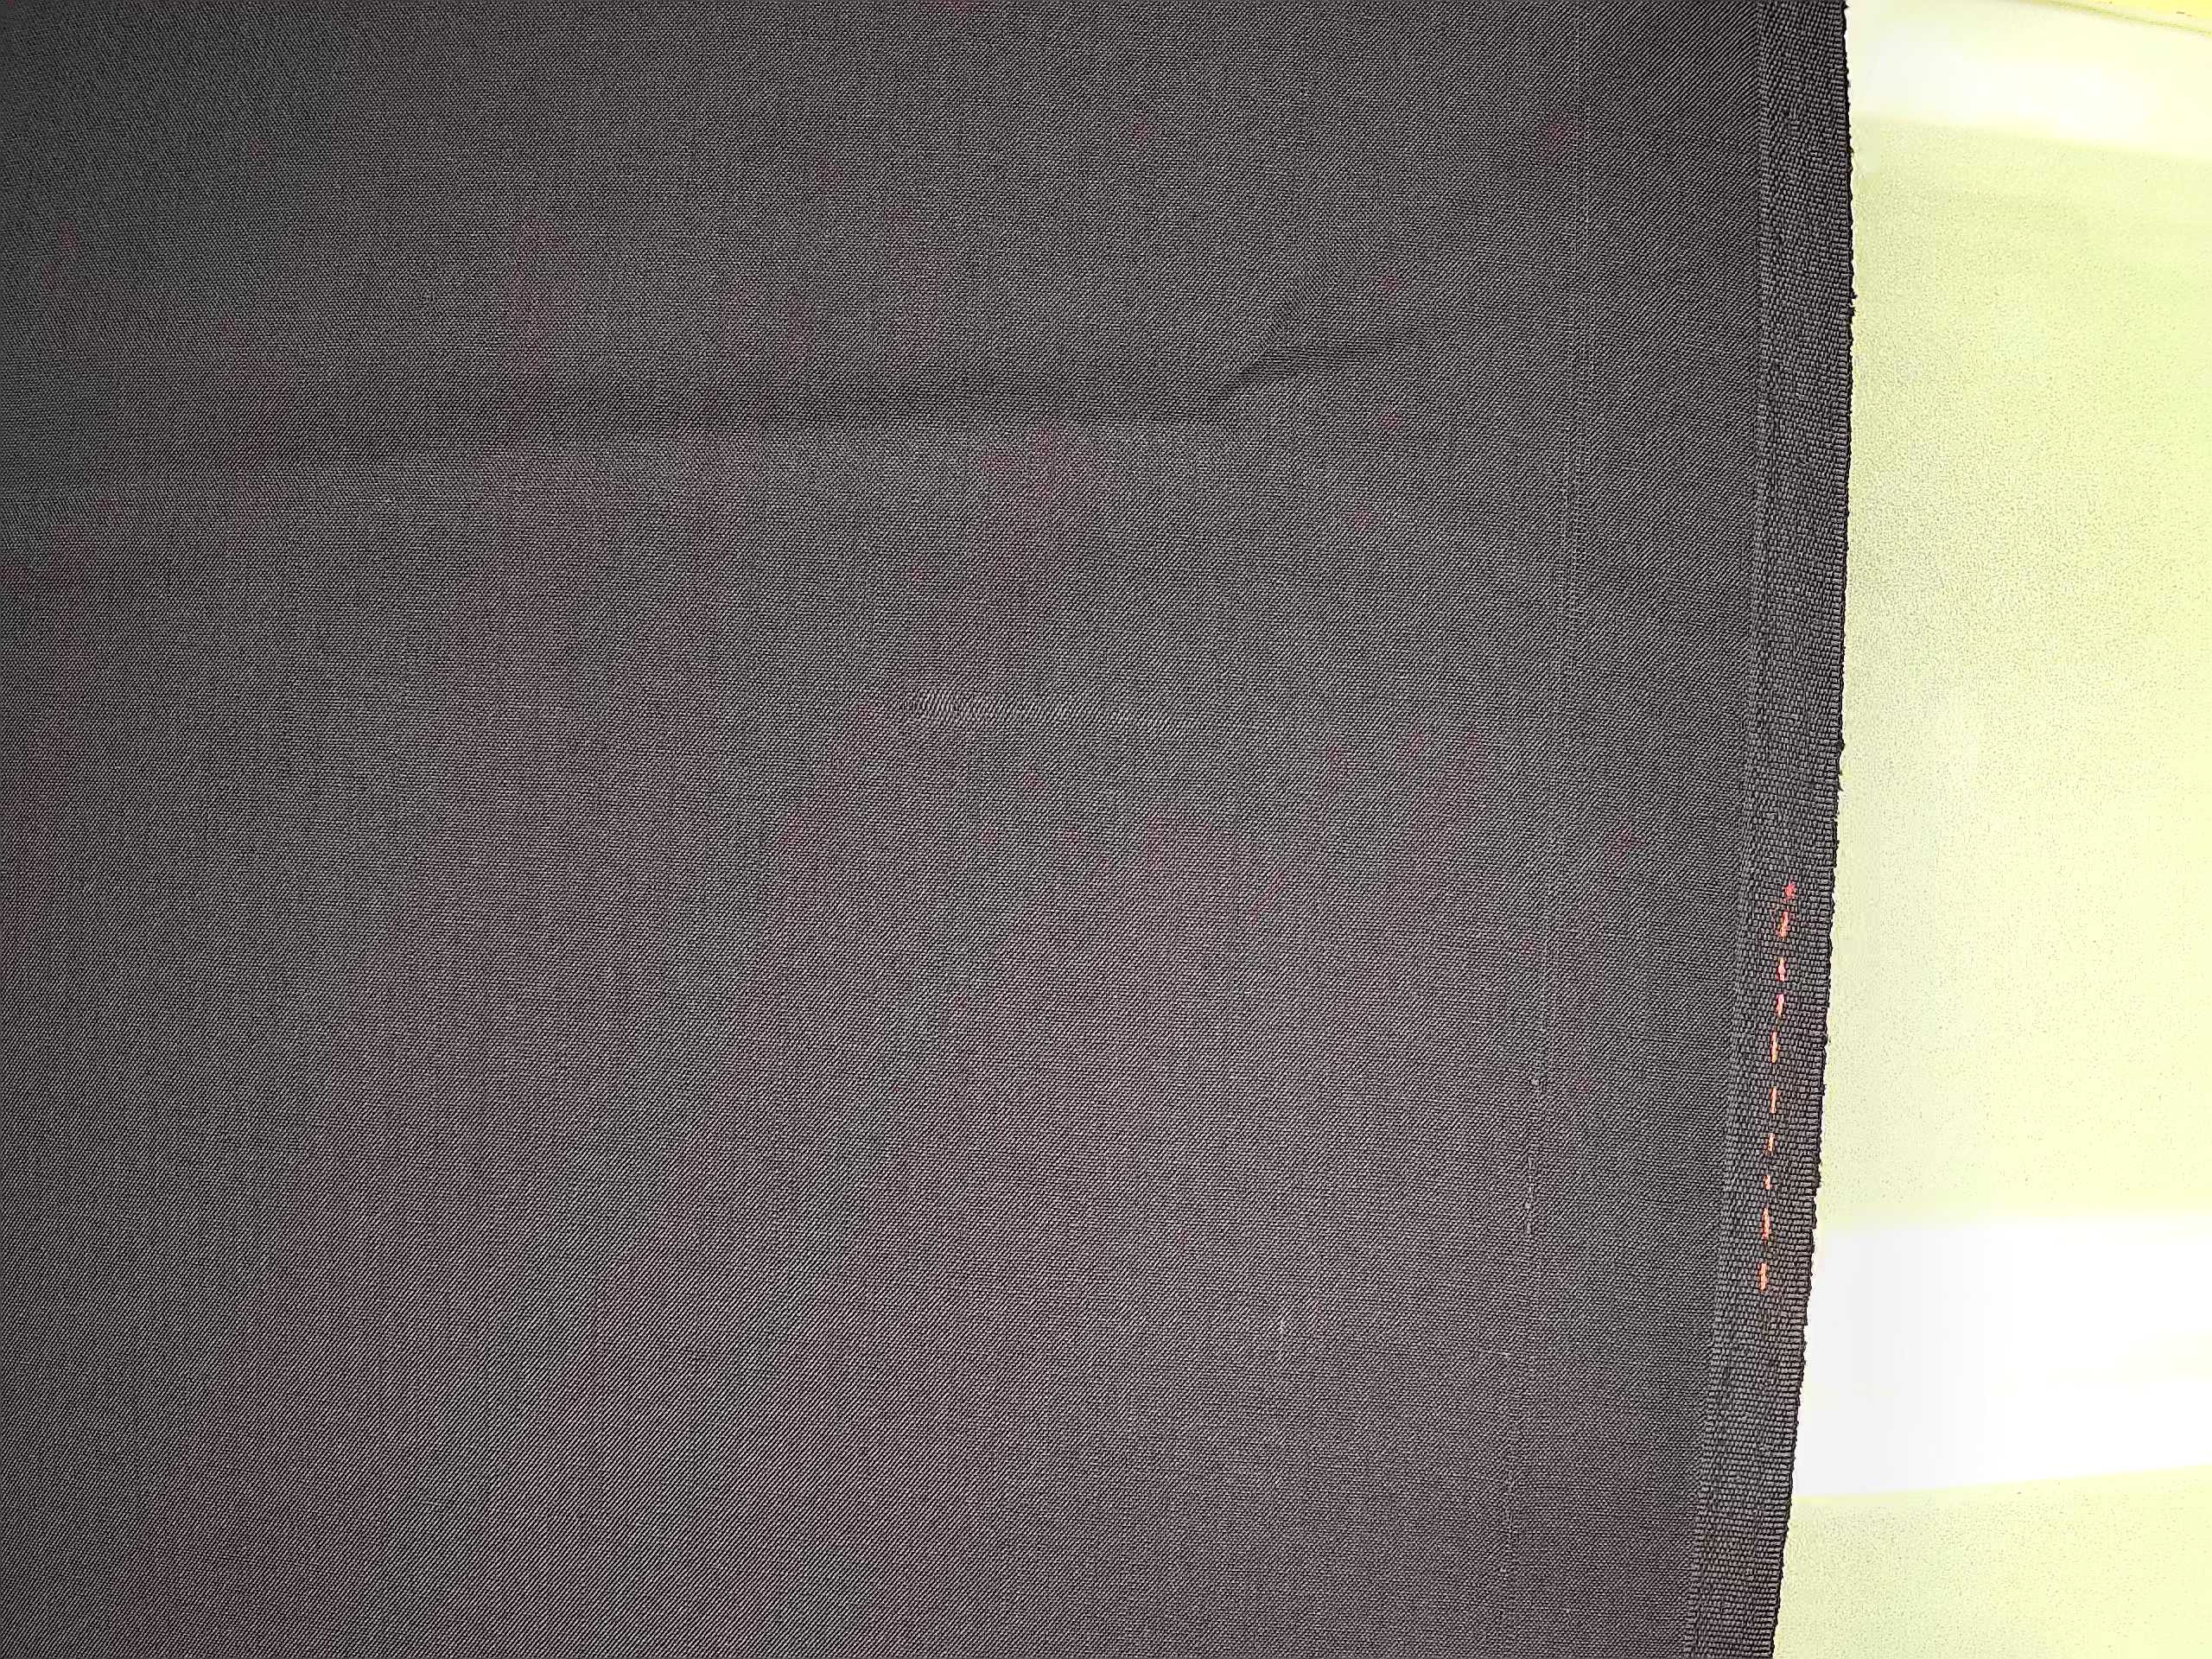others: (1543, 21, 1602, 866)
thin-spinning: (880, 666, 1264, 755)
